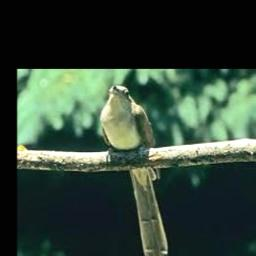Cuckoo: (99, 86, 168, 256)
